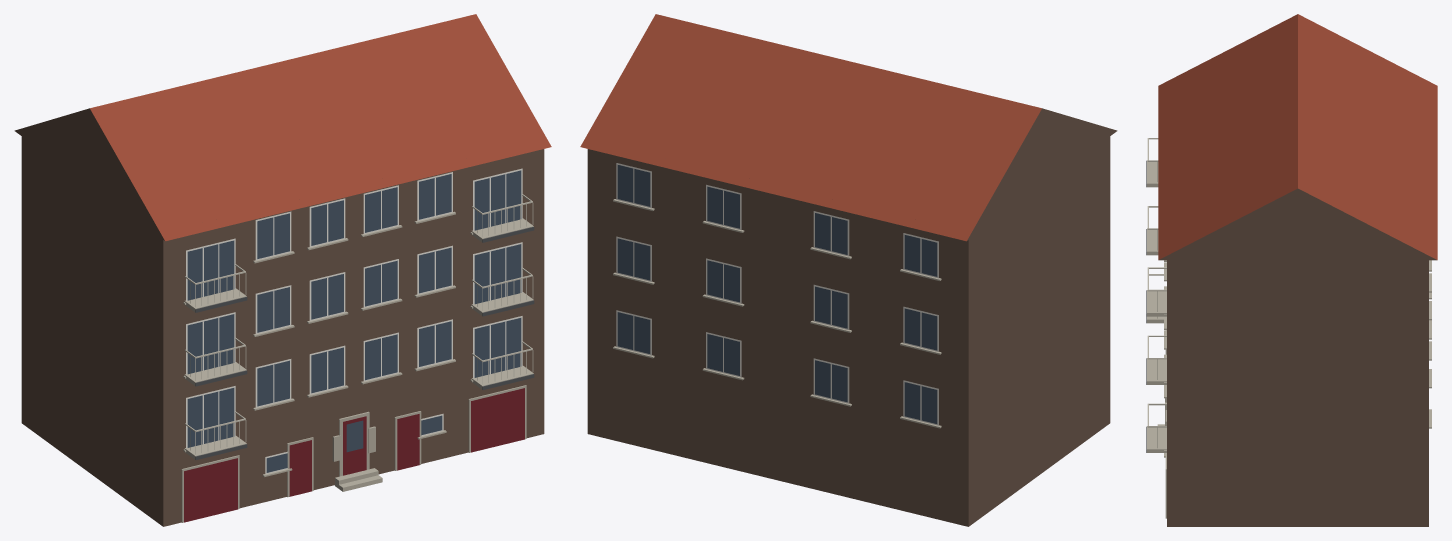
File: nw-portiek-hof-garage-4st__brown-red-4w__4__gable__long__solid.glb
3 views of the same model, side by side, from view 1: azimuth 30°, elevation 25°; view 2: azimuth 150°, elevation 25°; view 3: azimuth 270°, elevation 25° (orthographic). The views are drawn at different scales.
Visible parts, largest first — view 1: nw-portiek-hof-garage-4st__brown-red-4w__4__gable__long__sol; view 2: nw-portiek-hof-garage-4st__brown-red-4w__4__gable__long__sol; view 3: nw-portiek-hof-garage-4st__brown-red-4w__4__gable__long__sol.
Part boxes in pixels (<box>): nw-portiek-hof-garage-4st__brown-red-4w__4__gable__long__sol: <box>14,14,551,526</box>; nw-portiek-hof-garage-4st__brown-red-4w__4__gable__long__sol: <box>580,14,1117,526</box>; nw-portiek-hof-garage-4st__brown-red-4w__4__gable__long__sol: <box>1146,14,1437,526</box>.
Size of the model in its own units: 16.51 by 15 by 11.66.
